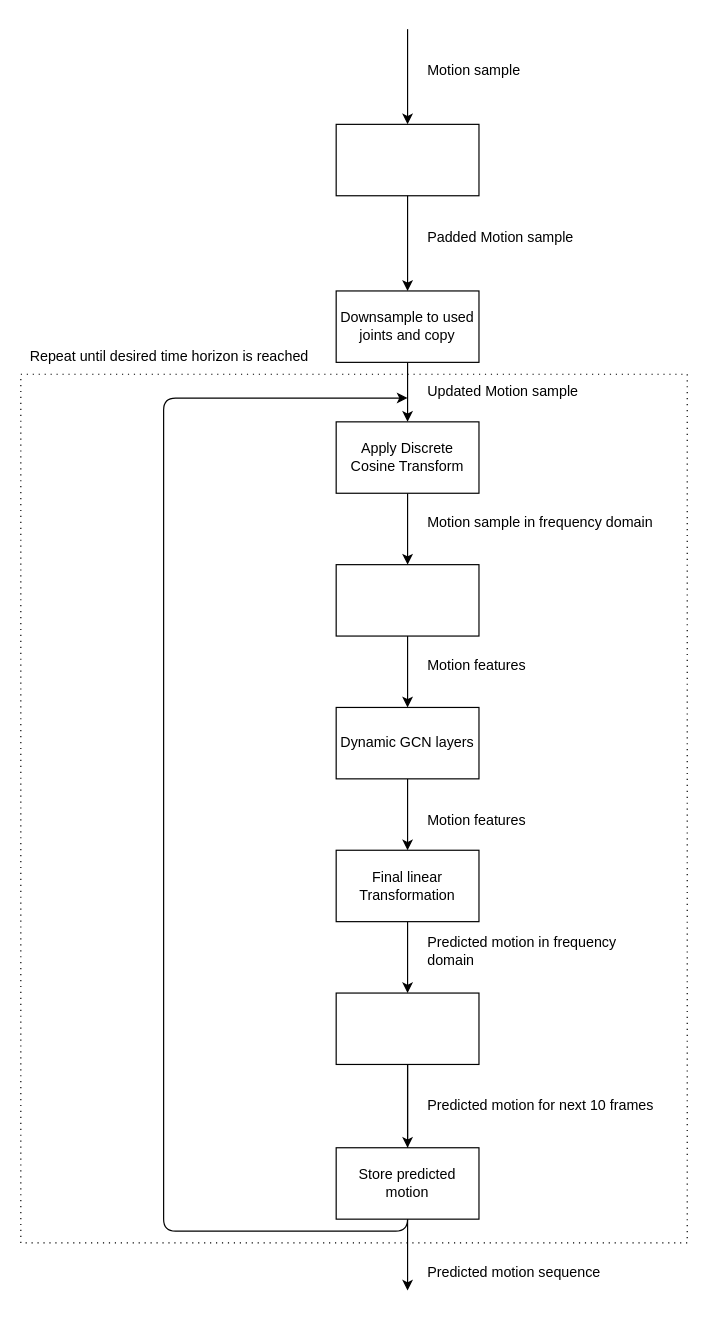
This 708x1321 diagram has some shape labels left out. The shapes that lost their labels are listed below. From the top down, each one's centre as x and y in pixels, then its label:
At pixel 407 159: "Motion padding".
At pixel 407 599: "Feature extraction using a Linear layer".
At pixel 407 1028: "Apply Inverse Discrete Cosine Transform".
